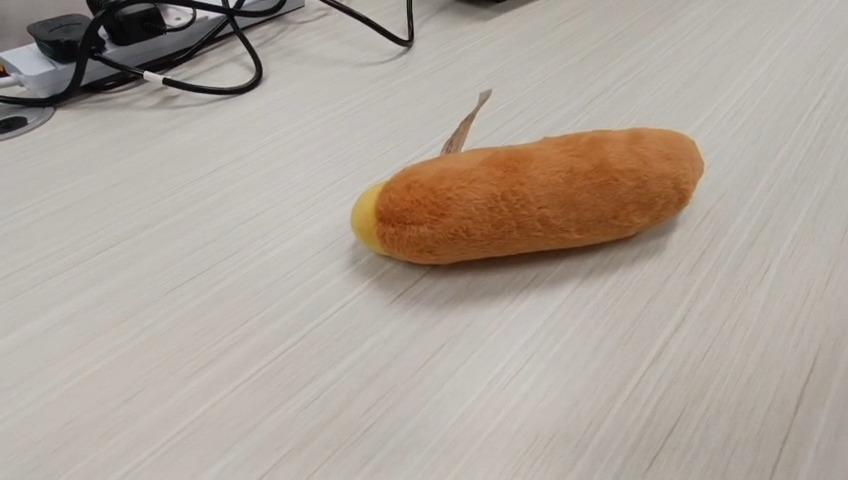hotdog: (349, 88, 704, 266)
